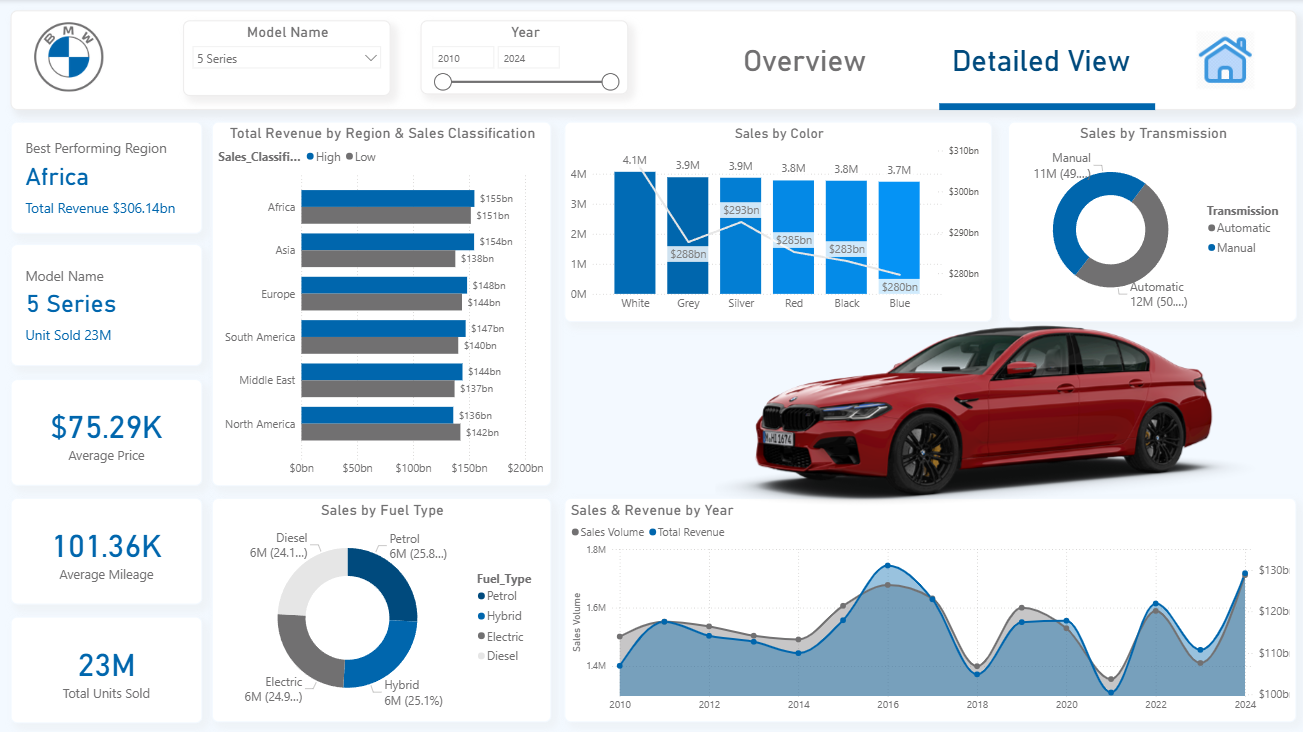

This screenshot's page, from the dashboard's own definition file:
{"tool":"powerbi","page":{"name":"Detailed View","canvas":[1920,1080],"ordinal":2},"visuals":[{"type":"cardVisual","fields":{"Data":["Min(BMW_Car_Sales_Classification.Region)"]},"box":[18.5,179.1,282,164.7],"z":0},{"type":"card","fields":{"Values":["Measures Table.Average Price"]},"box":[18.5,557.8,282,156.4],"z":1000},{"type":"cardVisual","fields":{"Data":["Min(BMW_Car_Sales_Classification.Model)"]},"box":[18.5,360.2,282,179.1],"z":2000},{"type":"card","fields":{"Values":["Measures Table.Average Mileage"]},"box":[18.5,732.8,282,156.4],"z":3000},{"type":"shape","box":[18.5,16.5,1887.5,146.1],"z":4000},{"type":"card","fields":{"Values":["Measures Table.Total Units Sold"]},"box":[18.5,905.7,282,156.4],"z":5000},{"type":"image","box":[45.3,28.8,115.3,111.1],"z":6000},{"type":"textbox","box":[1035.3,59.7,298.5,80.3],"z":7000},{"type":"shape","box":[1381.1,113,317,88.5],"z":8000},{"type":"textbox","box":[1362.6,59.7,335.5,80.3],"z":9000},{"type":"image","box":[1751.6,35,98.8,109.1],"z":10000},{"type":"lineChart","title":"Sales & Revenue by Year","fields":{"Category":["BMW_Car_Sales_Classification.Year"],"Y":["Sum(BMW_Car_Sales_Classification.Sales_Volume)"],"Y2":["Measures Table.Total Revenue"]},"box":[831.6,732.8,1074.4,329.3],"z":11000},{"type":"lineStackedColumnComboChart","title":"Sales by Color","fields":{"Category":["BMW_Car_Sales_Classification.Color"],"Y":["Sum(BMW_Car_Sales_Classification.Sales_Volume)"],"Y2":["Measures Table.Total Revenue"]},"box":[831.6,179.1,627.8,294.3],"z":12000},{"type":"donutChart","title":"Sales by Fuel Type","fields":{"Category":["BMW_Car_Sales_Classification.Fuel_Type"],"Y":["Sum(BMW_Car_Sales_Classification.Sales_Volume)"]},"box":[312.9,732.8,498.1,329.3],"z":13000},{"type":"slicer","title":"Model Name","fields":{"Values":["BMW_Car_Sales_Classification.Model"]},"box":[271.7,30.9,304.6,111.1],"z":14000},{"type":"slicer","title":"Year","fields":{"Values":["BMW_Car_Sales_Classification.Year"]},"box":[619.6,30.9,304.6,109.1],"z":15000},{"type":"shape","box":[1035.3,20.6,298.5,144.1],"z":16000},{"type":"clusteredBarChart","title":"Total Revenue by Region & Sales Classification","fields":{"Category":["BMW_Car_Sales_Classification.Region"],"Y":["Measures Table.Total Revenue"],"Series":["BMW_Car_Sales_Classification.Sales_Classification"]},"box":[312.9,179.1,498.1,535.2],"z":17000},{"type":"donutChart","title":"Sales by Transmission","fields":{"Category":["BMW_Car_Sales_Classification.Transmission"],"Y":["Sum(BMW_Car_Sales_Classification.Sales_Volume)"]},"box":[1482,179.1,424,294.3],"z":18000},{"type":"imageDB603108E3FF4EBFB8047F5653368E8C","fields":{"imageUrl":["BMW Images.URL"],"imageTitle":["BMW_Car_Sales_Classification.Model"]},"box":[983.9,360.2,922.1,428.1],"z":19000}]}

Visuals, with their boxes in screenshot pixels (x1, y1, x2, y2), scaled from the page's 1920x1080 canvas onto the 1303x732 screenshot:
cardVisual - Min(BMW_Car_Sales_Classification.Region): BBox(13, 121, 204, 233)
card - Measures Table.Average Price: BBox(13, 378, 204, 484)
cardVisual - Min(BMW_Car_Sales_Classification.Model): BBox(13, 244, 204, 366)
card - Measures Table.Average Mileage: BBox(13, 497, 204, 603)
shape: BBox(13, 11, 1293, 110)
card - Measures Table.Total Units Sold: BBox(13, 614, 204, 720)
image: BBox(31, 20, 109, 95)
textbox: BBox(703, 40, 905, 95)
shape: BBox(937, 77, 1152, 137)
textbox: BBox(925, 40, 1152, 95)
image: BBox(1189, 24, 1256, 98)
"Sales & Revenue by Year" lineChart: BBox(564, 497, 1293, 720)
"Sales by Color" lineStackedColumnComboChart: BBox(564, 121, 990, 321)
"Sales by Fuel Type" donutChart: BBox(212, 497, 550, 720)
"Model Name" slicer: BBox(184, 21, 391, 96)
"Year" slicer: BBox(420, 21, 627, 95)
shape: BBox(703, 14, 905, 112)
"Total Revenue by Region & Sales Classification" clusteredBarChart: BBox(212, 121, 550, 484)
"Sales by Transmission" donutChart: BBox(1006, 121, 1293, 321)
imageDB603108E3FF4EBFB8047F5653368E8C - BMW Images.URL x BMW_Car_Sales_Classification.Model: BBox(668, 244, 1293, 534)
